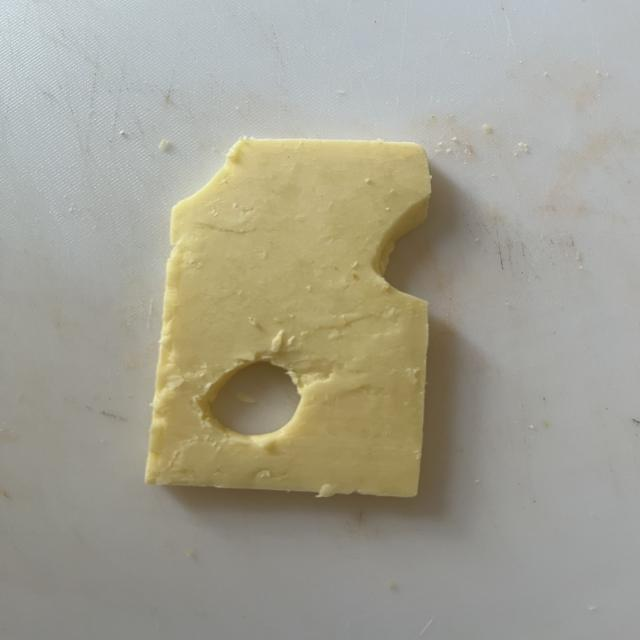cheese: (146, 139, 430, 496)
